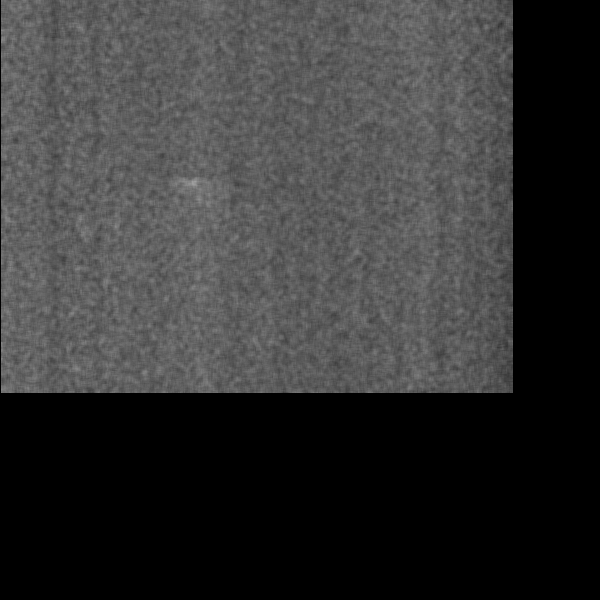spark: (167, 174, 211, 195)
